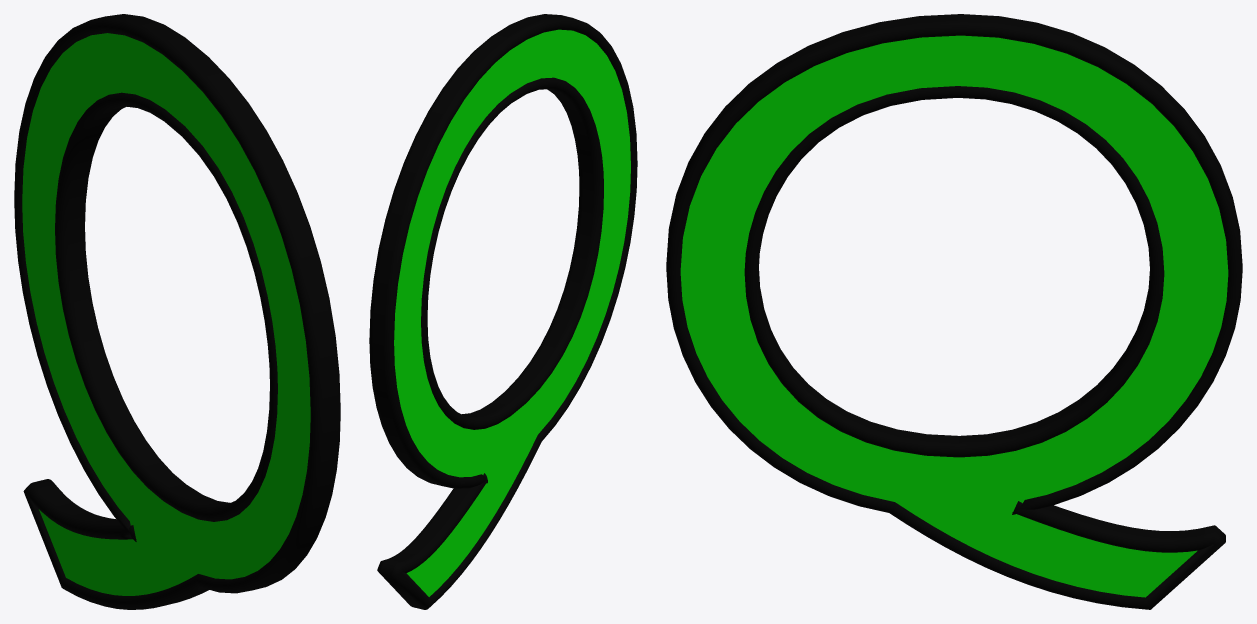
Rendered from qLetter.fbx.
3 renders of one model, left to right at view 1: azimuth 30°, elevation 25°; view 2: azimuth 150°, elevation 25°; view 3: azimuth 270°, elevation 25°, orthographic. The views are drawn at different scales.
Visible parts, largest first — view 1: Q; view 2: Q; view 3: Q.
Boxes of the visible parts, x1=… form: Q: x1=14, y1=14, x2=340, y2=609; Q: x1=369, y1=14, x2=637, y2=609; Q: x1=666, y1=14, x2=1242, y2=609.
Size of the model in its own units: 0.08 by 1.7 by 1.51.
